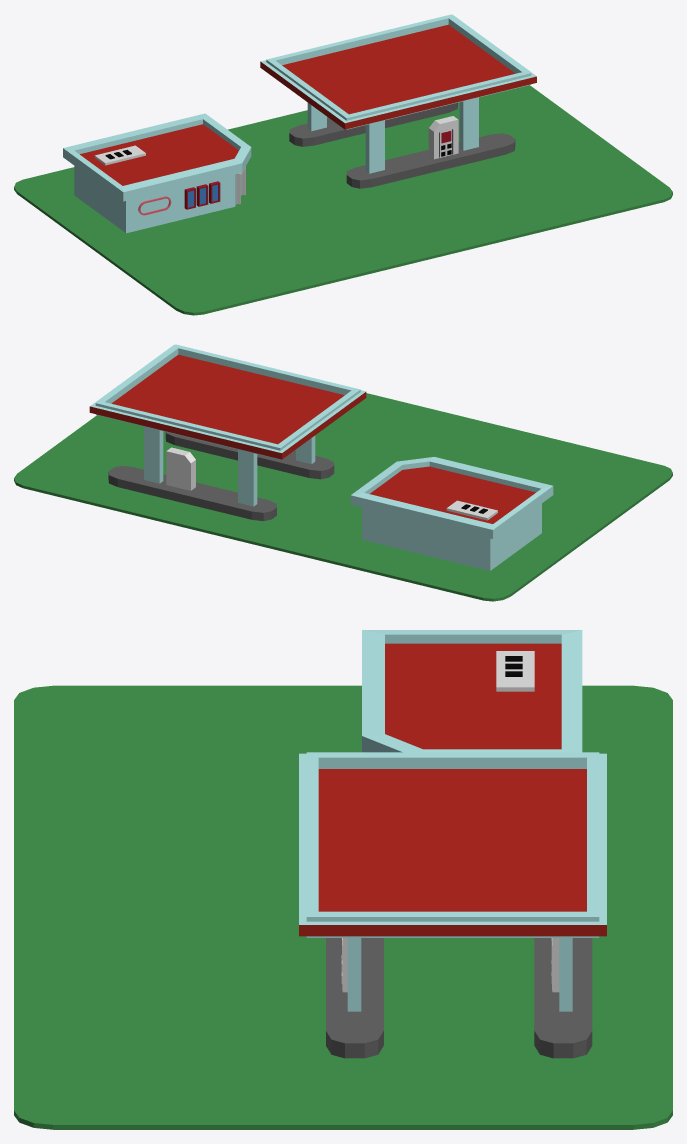
File: gas_station.fbx
The picture shows the model from 3 angles, top to bottom: view 1: azimuth 30°, elevation 25°; view 2: azimuth 150°, elevation 25°; view 3: azimuth 270°, elevation 25°; orthographic projection. The views are drawn at different scales.
Visible parts, largest first — view 1: Plane.003, Cube.042, Cube.031, Cube.040, Cube.041, Cube.048, Cube.044, Cube.043, Cube.032; view 2: Plane.003, Cube.042, Cube.031, Cube.041, Cube.040, Cube.019, Cube.045, Cube.046, Cube.032, Cube.044; view 3: Plane.003, Cube.042, Cube.031, Cube.041, Cube.040, Cube.032, Cube.043, Cube.045.
Part boxes in pixels (box(x1,y1,x2,y2)): Plane.003: box(14, 85, 672, 315); Cube.042: box(260, 14, 536, 129); Cube.031: box(63, 113, 251, 233); Cube.040: box(346, 133, 515, 188); Cube.041: box(289, 102, 457, 146); Cube.048: box(428, 116, 458, 159); Cube.044: box(365, 120, 384, 173); Cube.043: box(459, 97, 478, 150); Cube.032: box(94, 145, 145, 165); Plane.003: box(14, 393, 672, 601); Cube.042: box(89, 344, 366, 459); Cube.031: box(350, 457, 553, 570); Cube.041: box(108, 465, 276, 521); Cube.040: box(165, 432, 334, 479); Cube.019: box(166, 447, 195, 490); Cube.045: box(144, 426, 163, 483); Cube.046: box(238, 449, 257, 506); Cube.032: box(446, 500, 497, 520); Cube.044: box(296, 435, 315, 463); Plane.003: box(14, 685, 672, 1129); Cube.042: box(299, 752, 606, 937); Cube.031: box(362, 630, 582, 752); Cube.041: box(534, 938, 592, 1058); Cube.040: box(326, 938, 383, 1058); Cube.032: box(496, 651, 534, 691); Cube.043: box(347, 938, 361, 1011); Cube.045: box(559, 938, 572, 1011).
Size of the model in its own units: 98.42 by 15.84 by 62.41.
